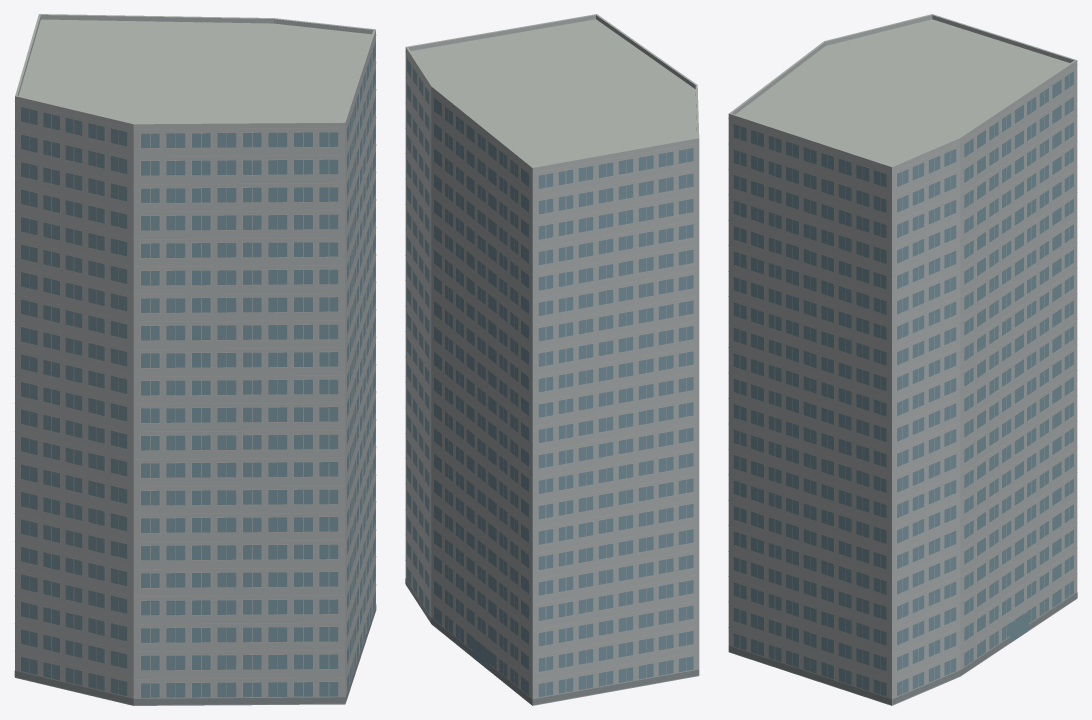
File: civic-f48f6120-146f-42b1-81c9-abab59100516.glb
3 renders of one model, left to right at view 1: azimuth 30°, elevation 25°; view 2: azimuth 150°, elevation 25°; view 3: azimuth 270°, elevation 25°, orthographic. The views are drawn at different scales.
Parts seen in each view (by area): view 1: civic-f48f6120-146f-42b1-81c9-abab59100516; view 2: civic-f48f6120-146f-42b1-81c9-abab59100516; view 3: civic-f48f6120-146f-42b1-81c9-abab59100516.
Boxes of the visible parts, <box> form: civic-f48f6120-146f-42b1-81c9-abab59100516: <box>14,14,376,705</box>; civic-f48f6120-146f-42b1-81c9-abab59100516: <box>405,14,699,705</box>; civic-f48f6120-146f-42b1-81c9-abab59100516: <box>728,14,1077,705</box>.
Size of the model in its own units: 51.38 by 84 by 49.37.
